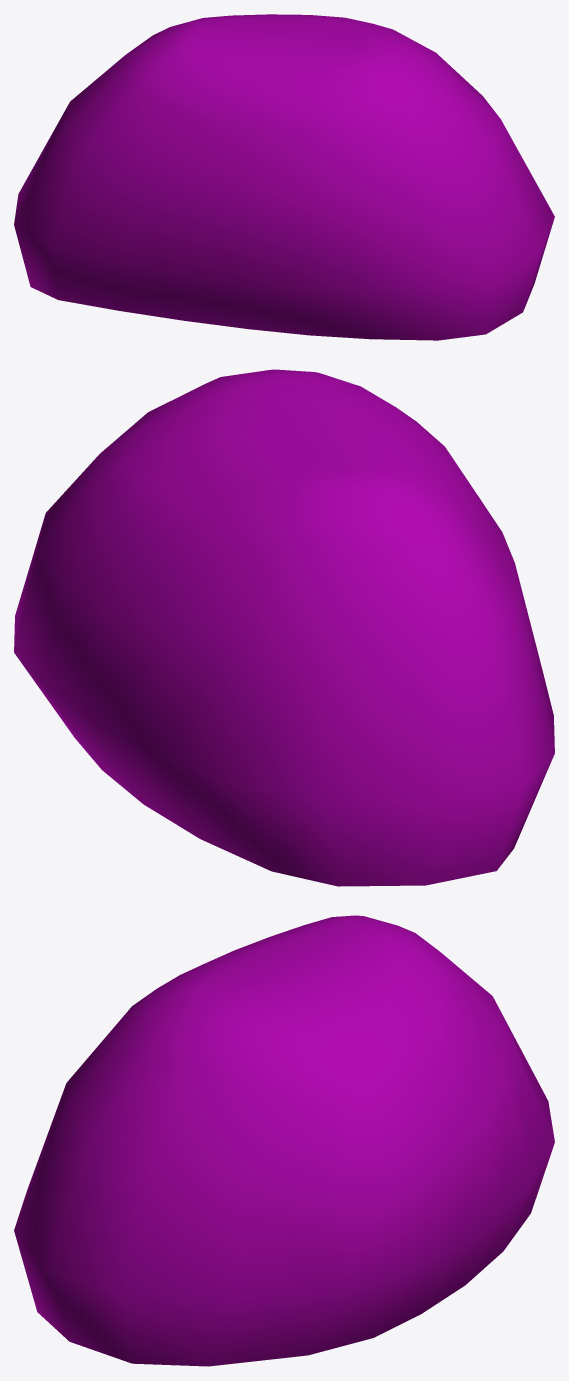
File: Flag_02.fbx
3 views of the same model, one above another, from view 1: azimuth 30°, elevation 25°; view 2: azimuth 150°, elevation 25°; view 3: azimuth 270°, elevation 25° (orthographic). The views are drawn at different scales.
Visible parts, largest first — view 1: Flag_02; view 2: Flag_02; view 3: Flag_02.
Boxes of the visible parts, <box> form: Flag_02: <box>14,14,554,340</box>; Flag_02: <box>14,369,554,886</box>; Flag_02: <box>14,915,554,1366</box>.
Size of the model in its own units: 59.4 by 32.24 by 54.08.
